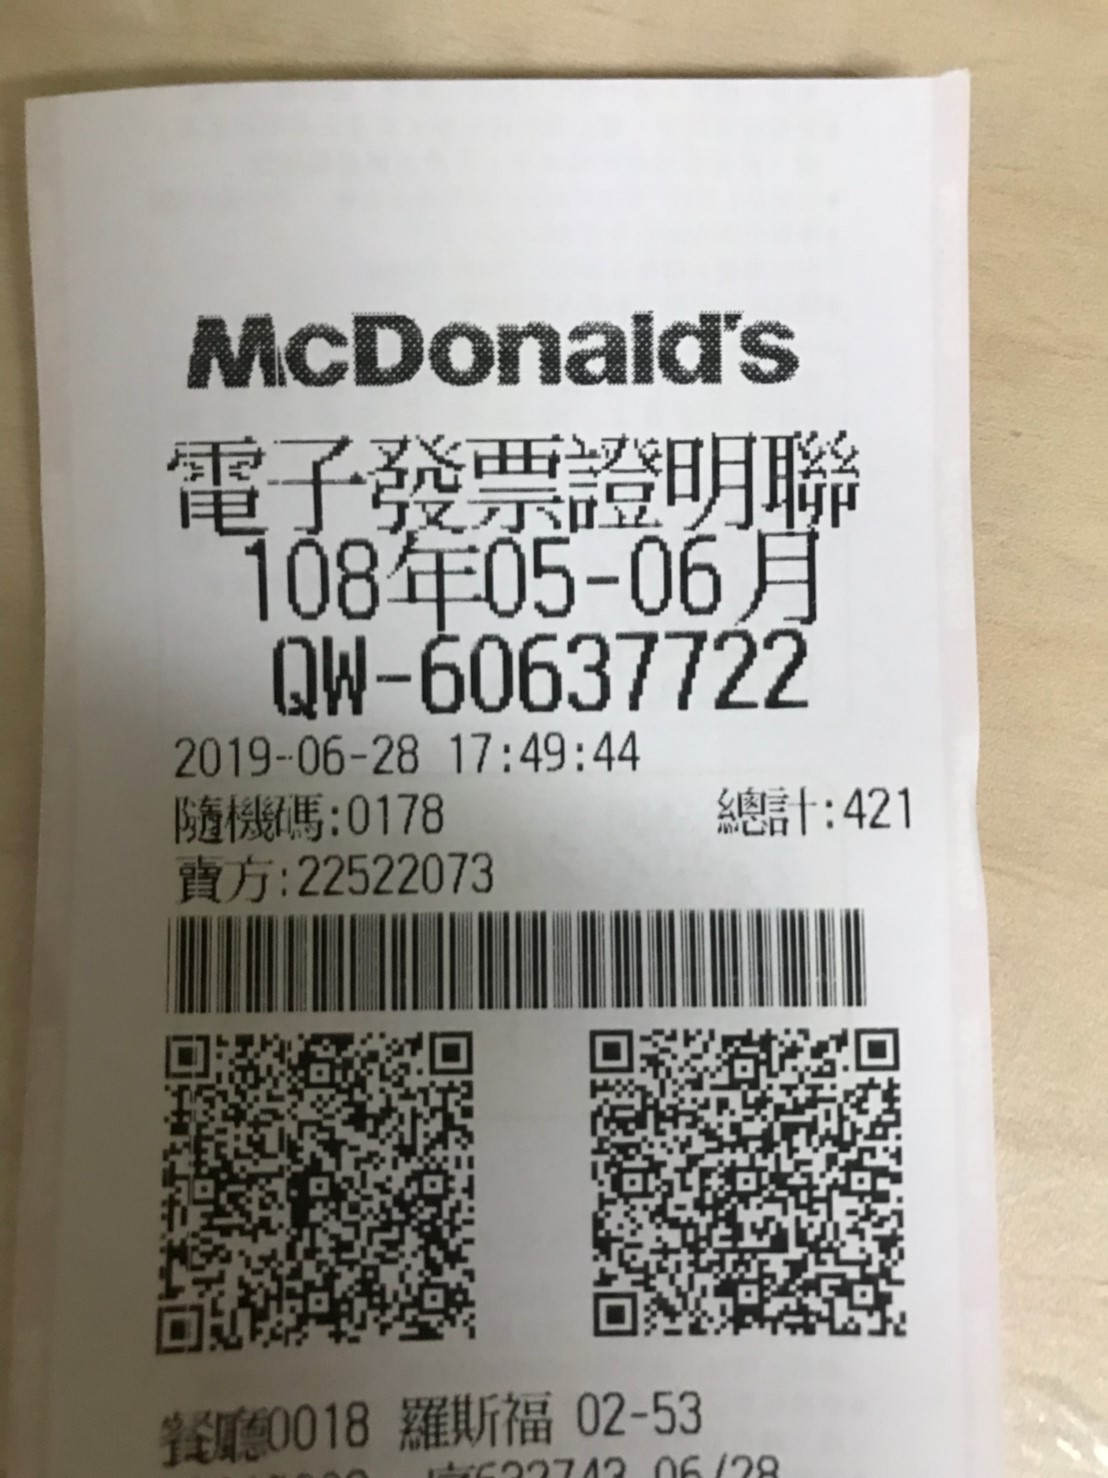Date_New: (248, 532, 824, 626)
Number_New: (417, 626, 812, 713)
